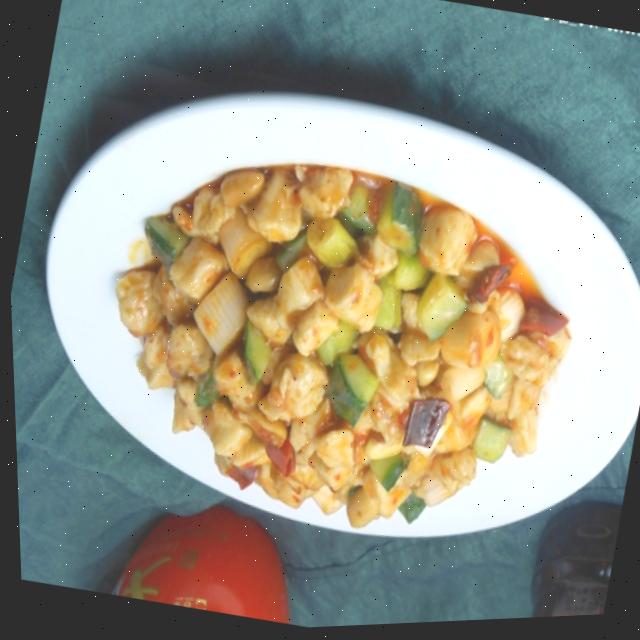鸡肉料理 含炸鸡: (73, 120, 576, 577)
